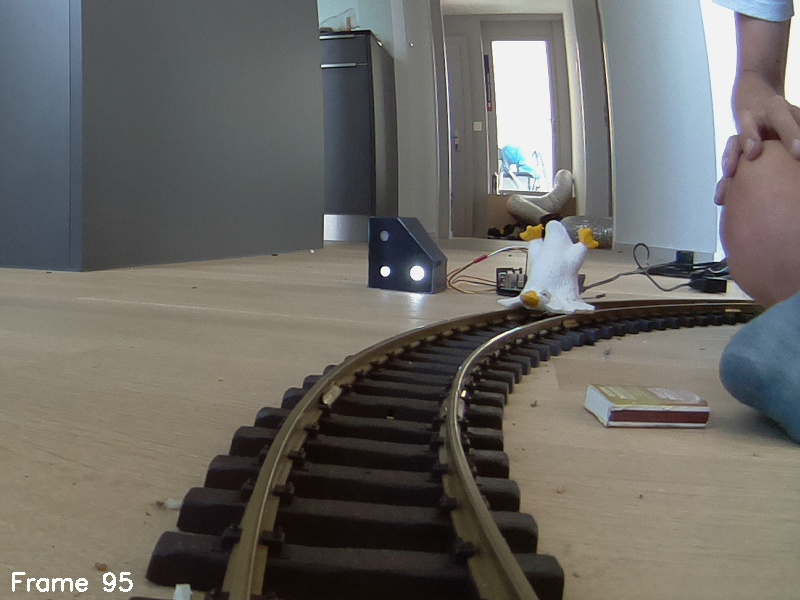Halt: (368, 217, 448, 299)
